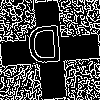D: (25, 25, 65, 74)
